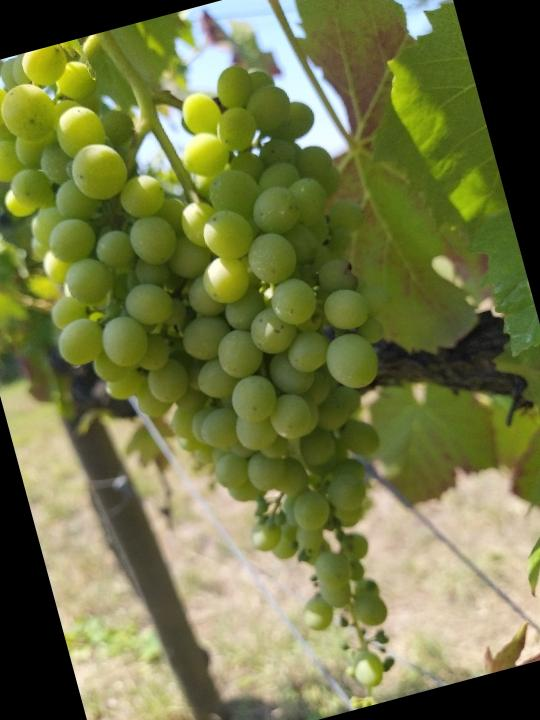grape: (0, 0, 474, 720)
